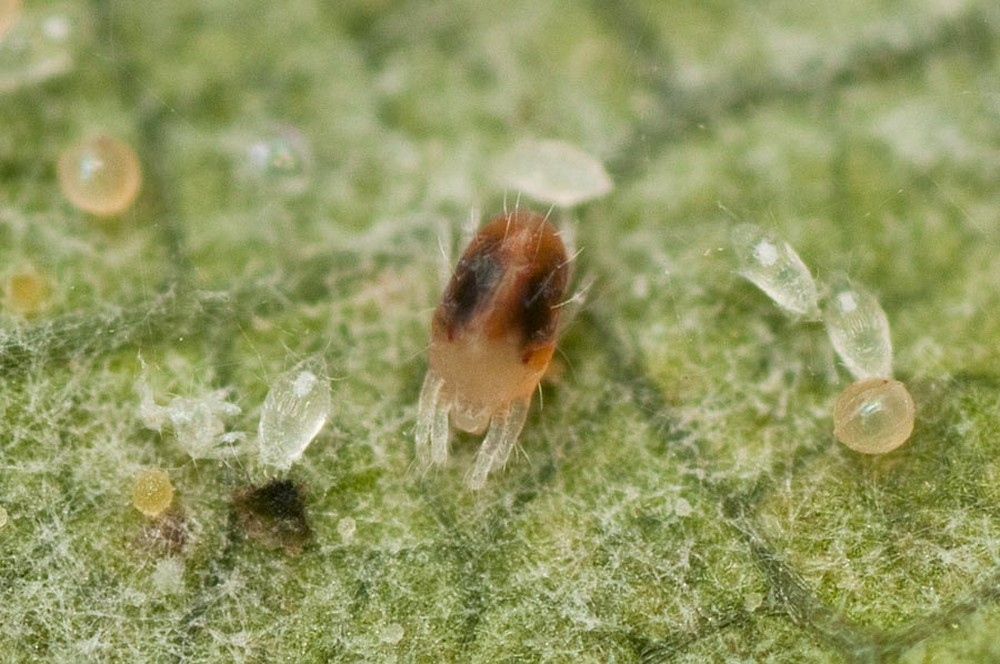Aracnido Rojo: (377, 194, 598, 496)
